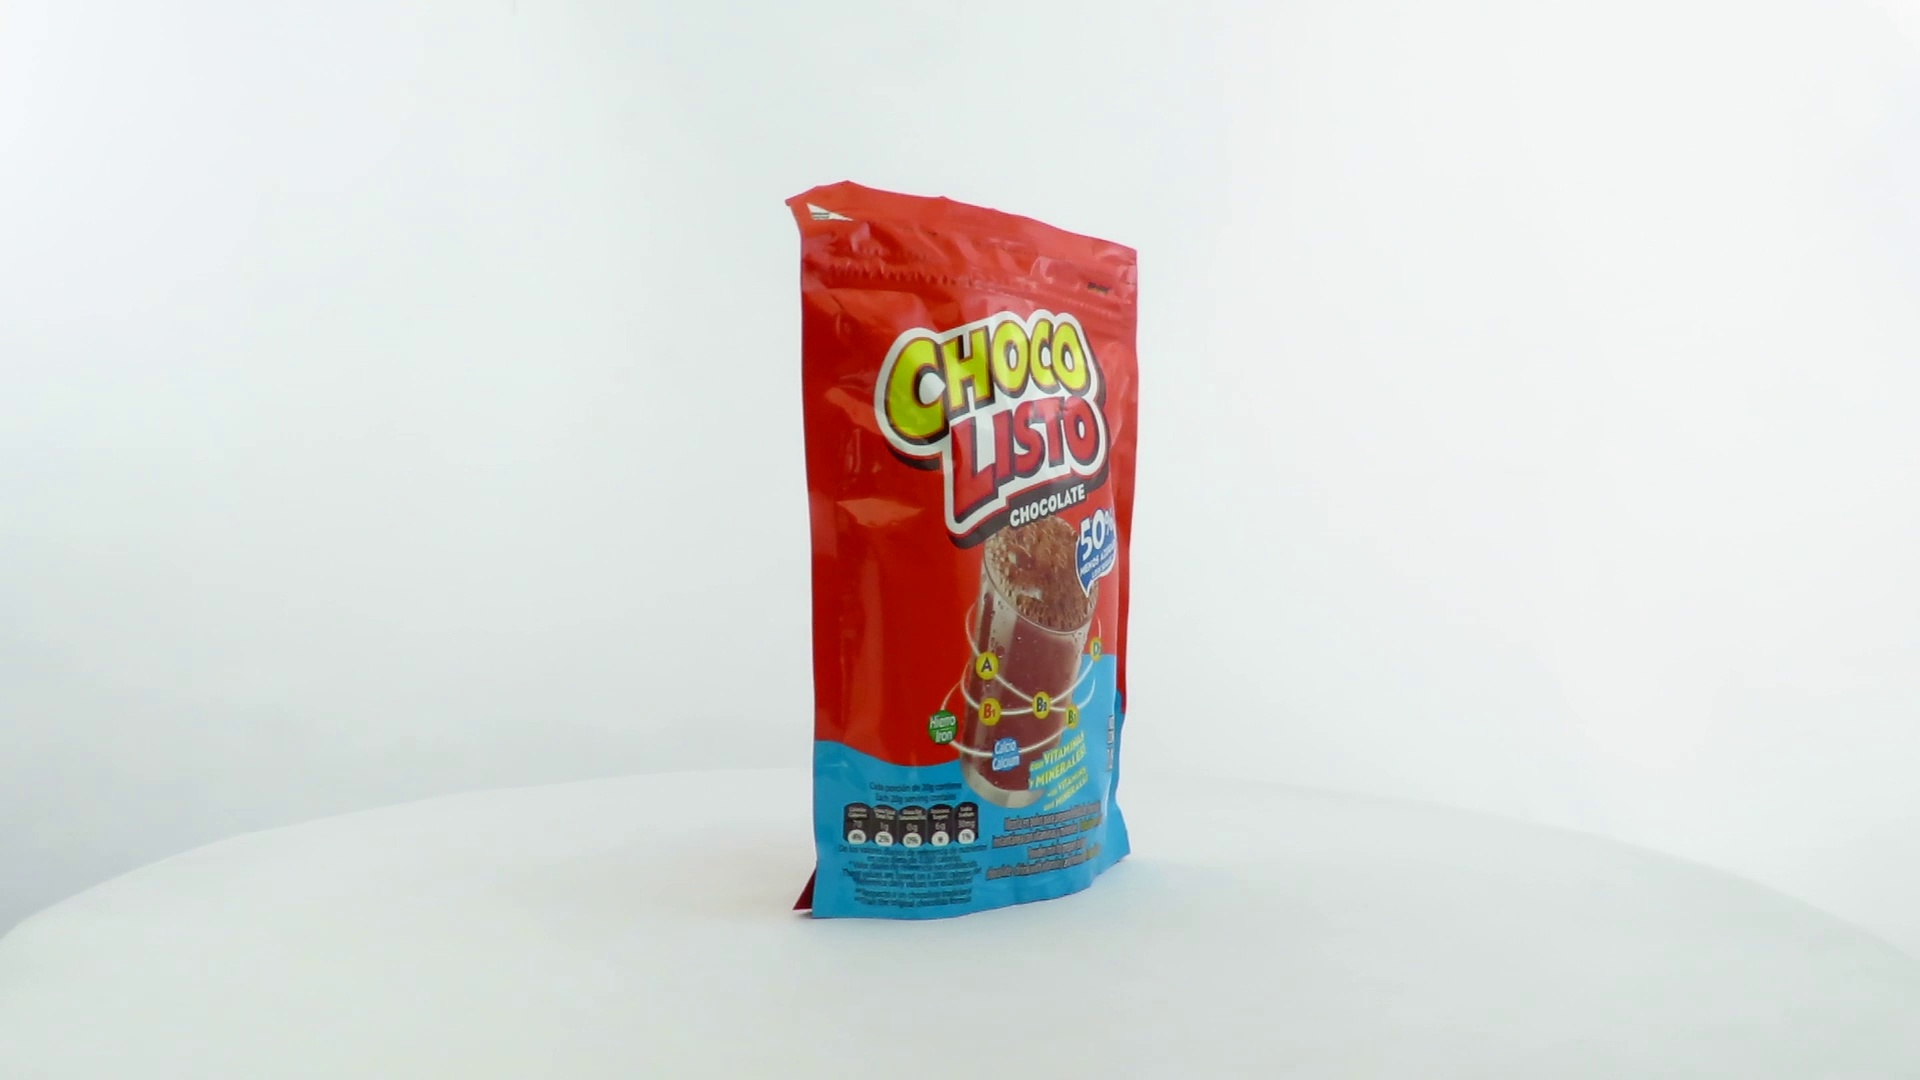COL0170104DYP20000: (781, 175, 1145, 927)
